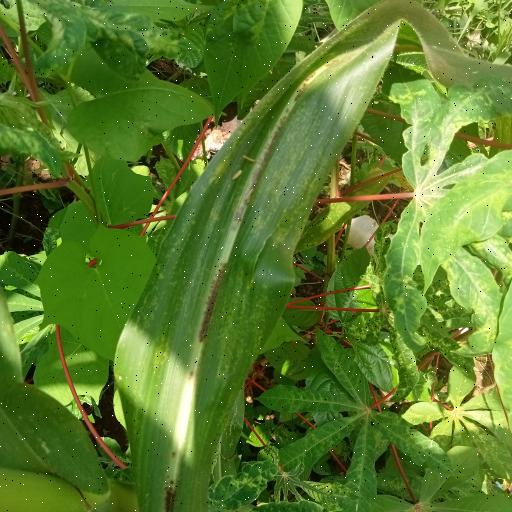Corn_Brown_Spots: (115, 0, 512, 512)
